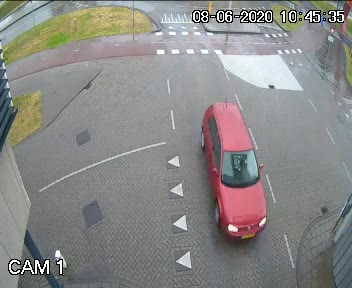car: (193, 93, 274, 254)
